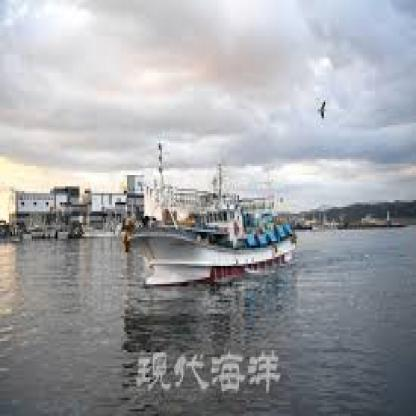Ship: (122, 160, 305, 299)
